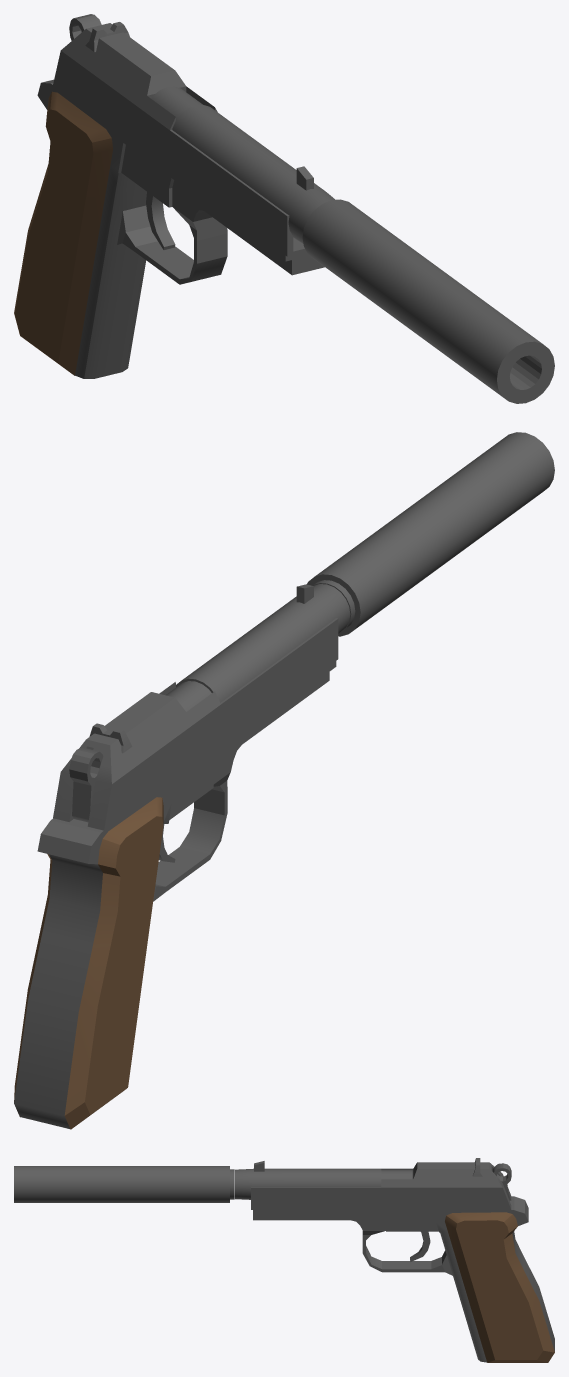
File: Silenced_Fire.fbx
3 renders of one model, top to bottom at view 1: azimuth 30°, elevation 25°; view 2: azimuth 150°, elevation 25°; view 3: azimuth 270°, elevation 25°, orthographic. The views are drawn at different scales.
Parts seen in each view (by area): view 1: Body, Silencer, Grip, Slide, Barrel, Trigger, Hammer; view 2: Body, Grip, Slide, Silencer, Barrel, Hammer; view 3: Grip, Slide, Silencer, Body, Barrel, Hammer, Trigger.
Boxes of the visible parts, x1,y1,x2,y2 form: Body: (37,79,324,378); Silencer: (302,199,554,403); Grip: (14,91,112,375); Slide: (53,22,306,256); Barrel: (151,86,335,243); Trigger: (146,192,175,249); Hammer: (69,14,101,40); Body: (14,661,336,1128); Grip: (14,797,163,1129); Slide: (53,618,338,830); Silencer: (307,432,554,636); Barrel: (166,584,350,711); Hammer: (69,747,103,822); Grip: (445,1212,554,1362); Slide: (251,1158,511,1209); Silencer: (14,1166,234,1202); Body: (253,1196,554,1362); Barrel: (235,1168,412,1199); Hammer: (492,1163,511,1197); Trigger: (410,1231,430,1261).
Bounding box in the file's own units: 25.63 × 122 × 309.
